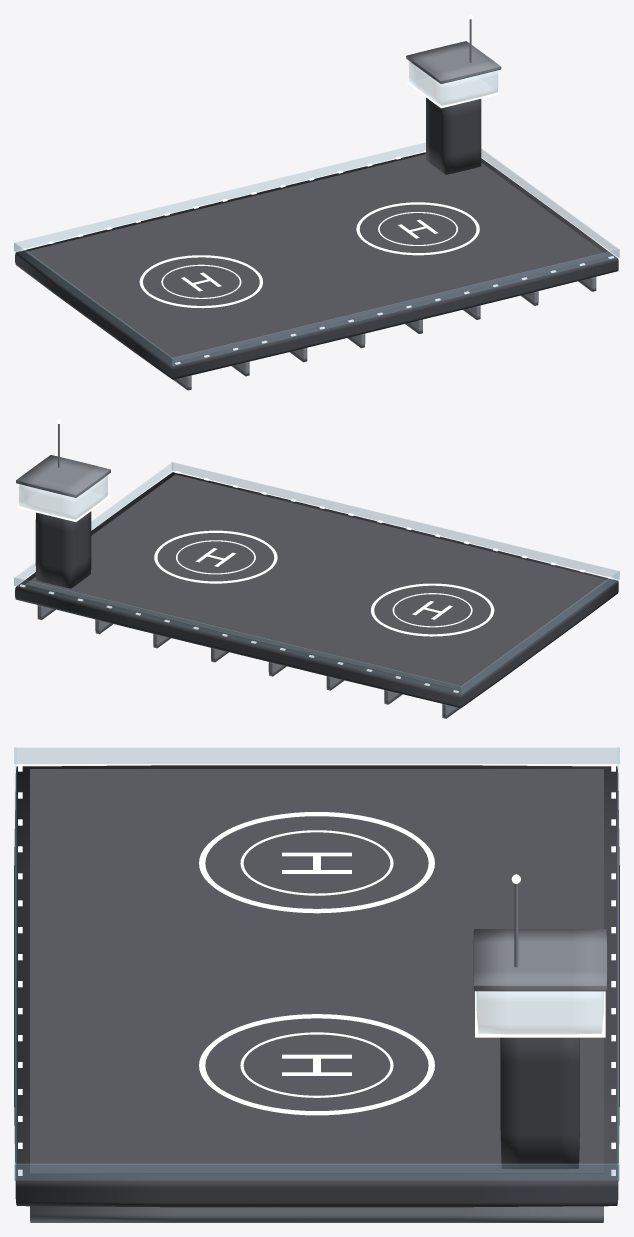
File: skyport.glb
The picture shows the model from 3 angles, top to bottom: view 1: azimuth 30°, elevation 25°; view 2: azimuth 150°, elevation 25°; view 3: azimuth 270°, elevation 25°; orthographic projection. The views are drawn at different scales.
Parts seen in each view (by area): view 1: skyport; view 2: skyport; view 3: skyport.
Part boxes in pixels (x1=…): skyport: x1=14, y1=14, x2=619, y2=390; skyport: x1=14, y1=419, x2=619, y2=718; skyport: x1=14, y1=747, x2=619, y2=1222.
Bounding box in the file's own units: 62.2 × 24.2 × 38.
